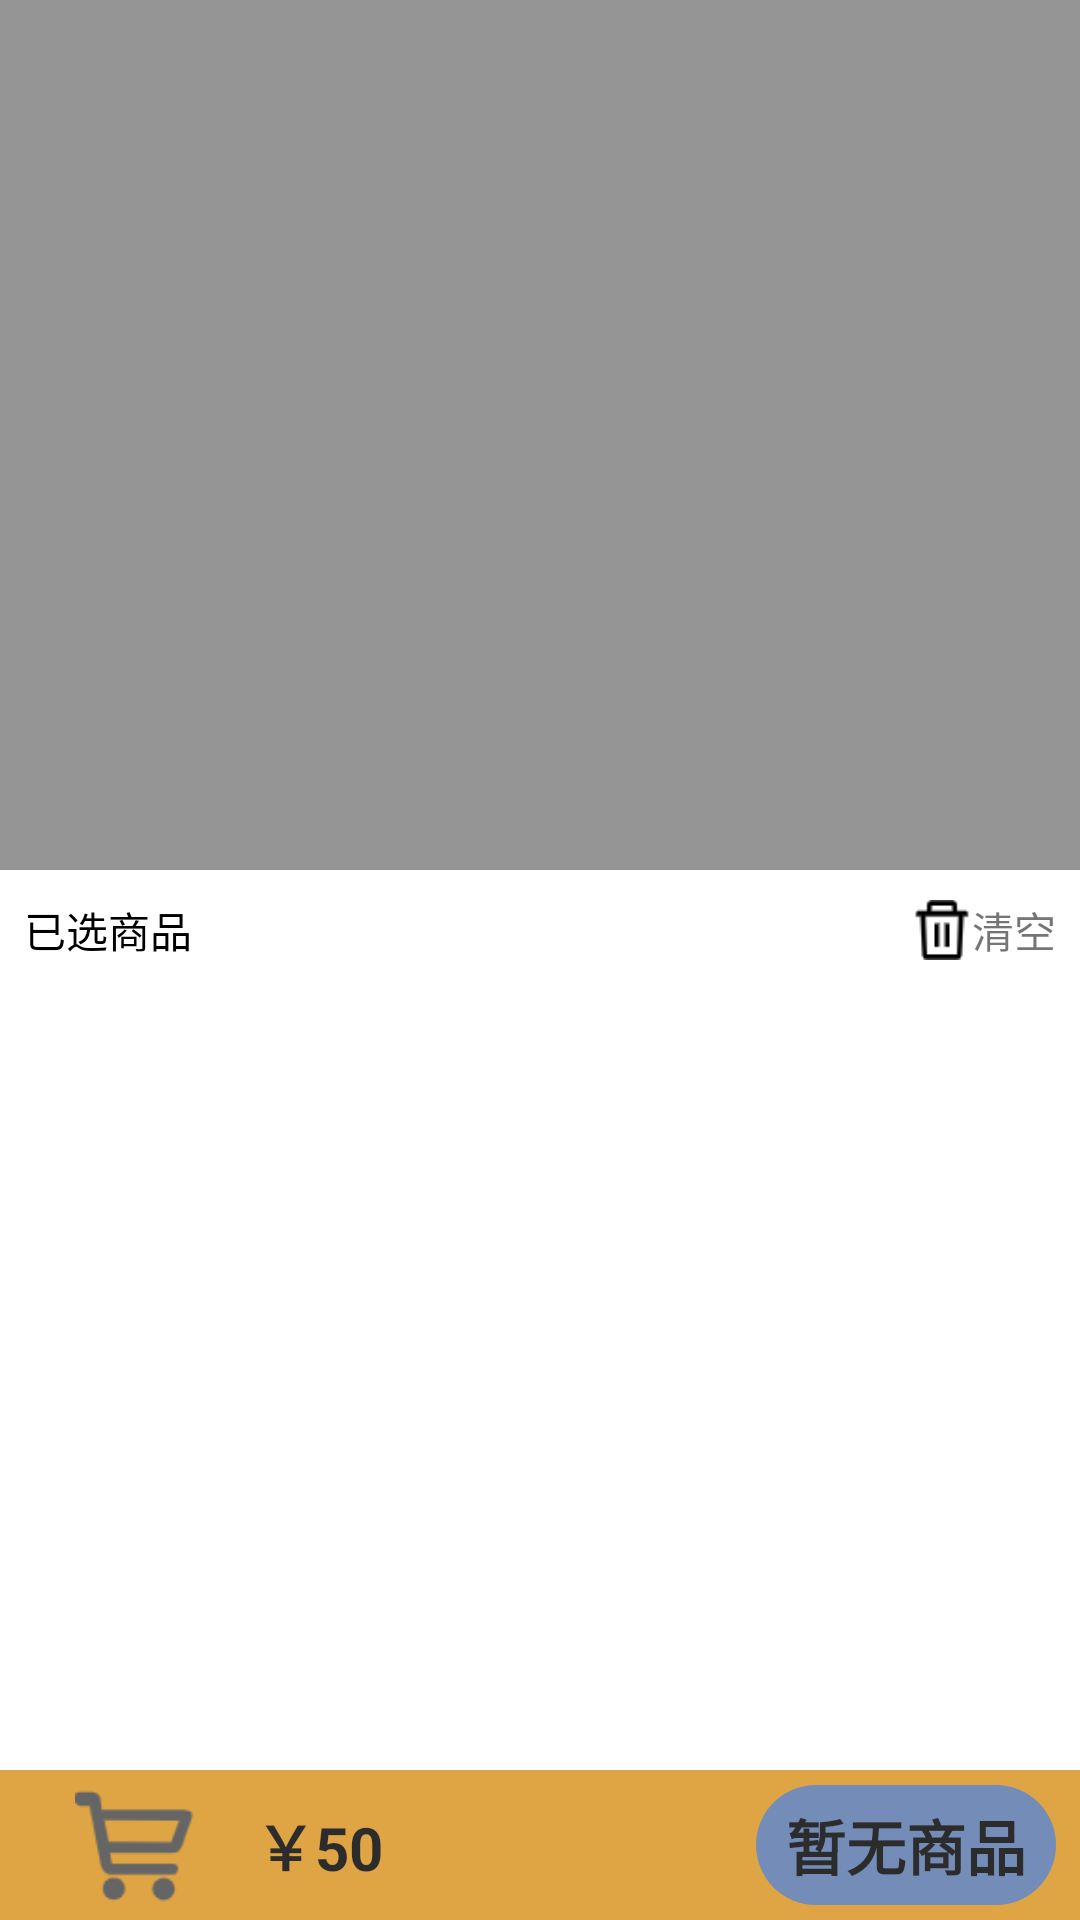

Icons on this 1080 × 1920 Android screen, each with its box as (x1, y1, x2, y2):
shoppingcar null: (75, 1791, 193, 1901)
